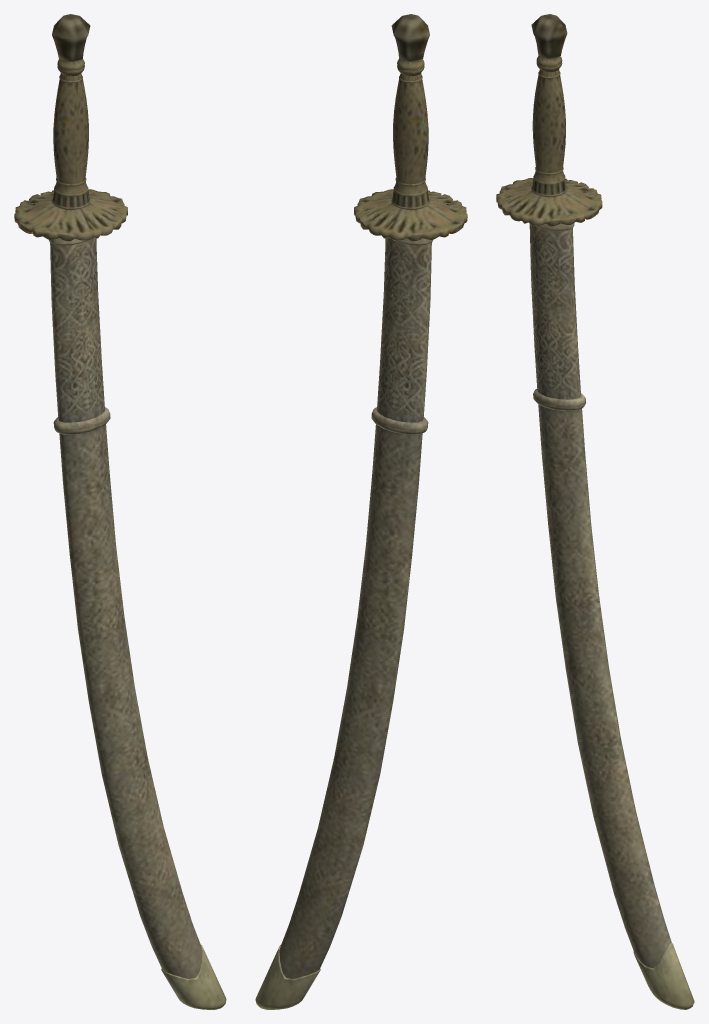
Rendered from weapon-wp_a_0553.glb.
3 views of the same model, side by side, from view 1: azimuth 30°, elevation 25°; view 2: azimuth 150°, elevation 25°; view 3: azimuth 330°, elevation 25° (orthographic). The views are drawn at different scales.
Parts seen in each view (by area): view 1: wp_a_0553_mesh; view 2: wp_a_0553_mesh; view 3: wp_a_0553_mesh.
Boxes of the visible parts, left/top/right/bottom form: wp_a_0553_mesh: left=14, top=14, right=226, bottom=1009; wp_a_0553_mesh: left=255, top=14, right=467, bottom=1009; wp_a_0553_mesh: left=496, top=14, right=694, bottom=1009.
Size of the model in its own units: 0.2629 by 1.25 by 0.1199.
2 materials, 2 textured.
